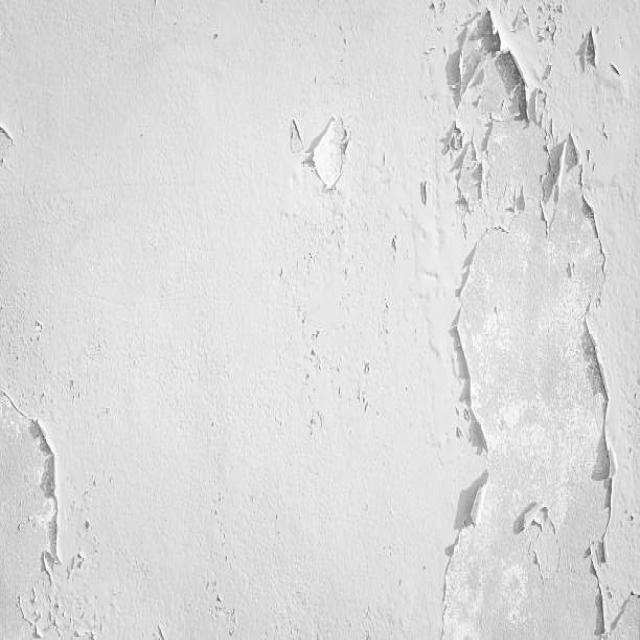peeling paint: (277, 0, 640, 638), (0, 102, 168, 640)
